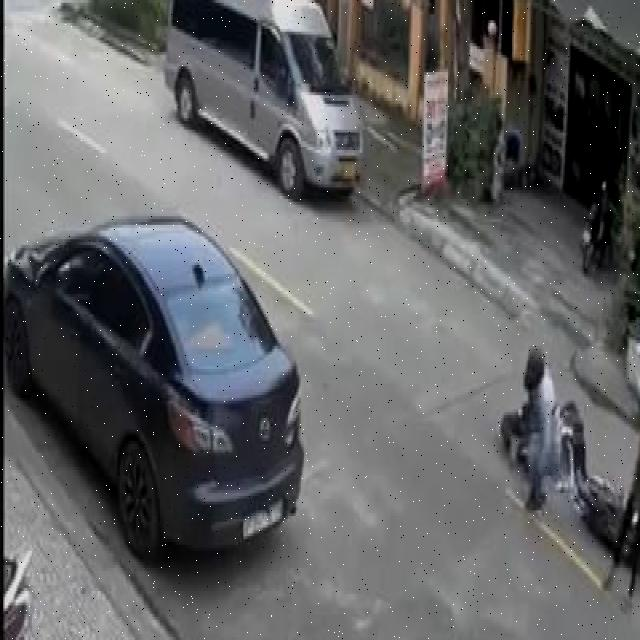accident: (498, 325, 640, 611)
